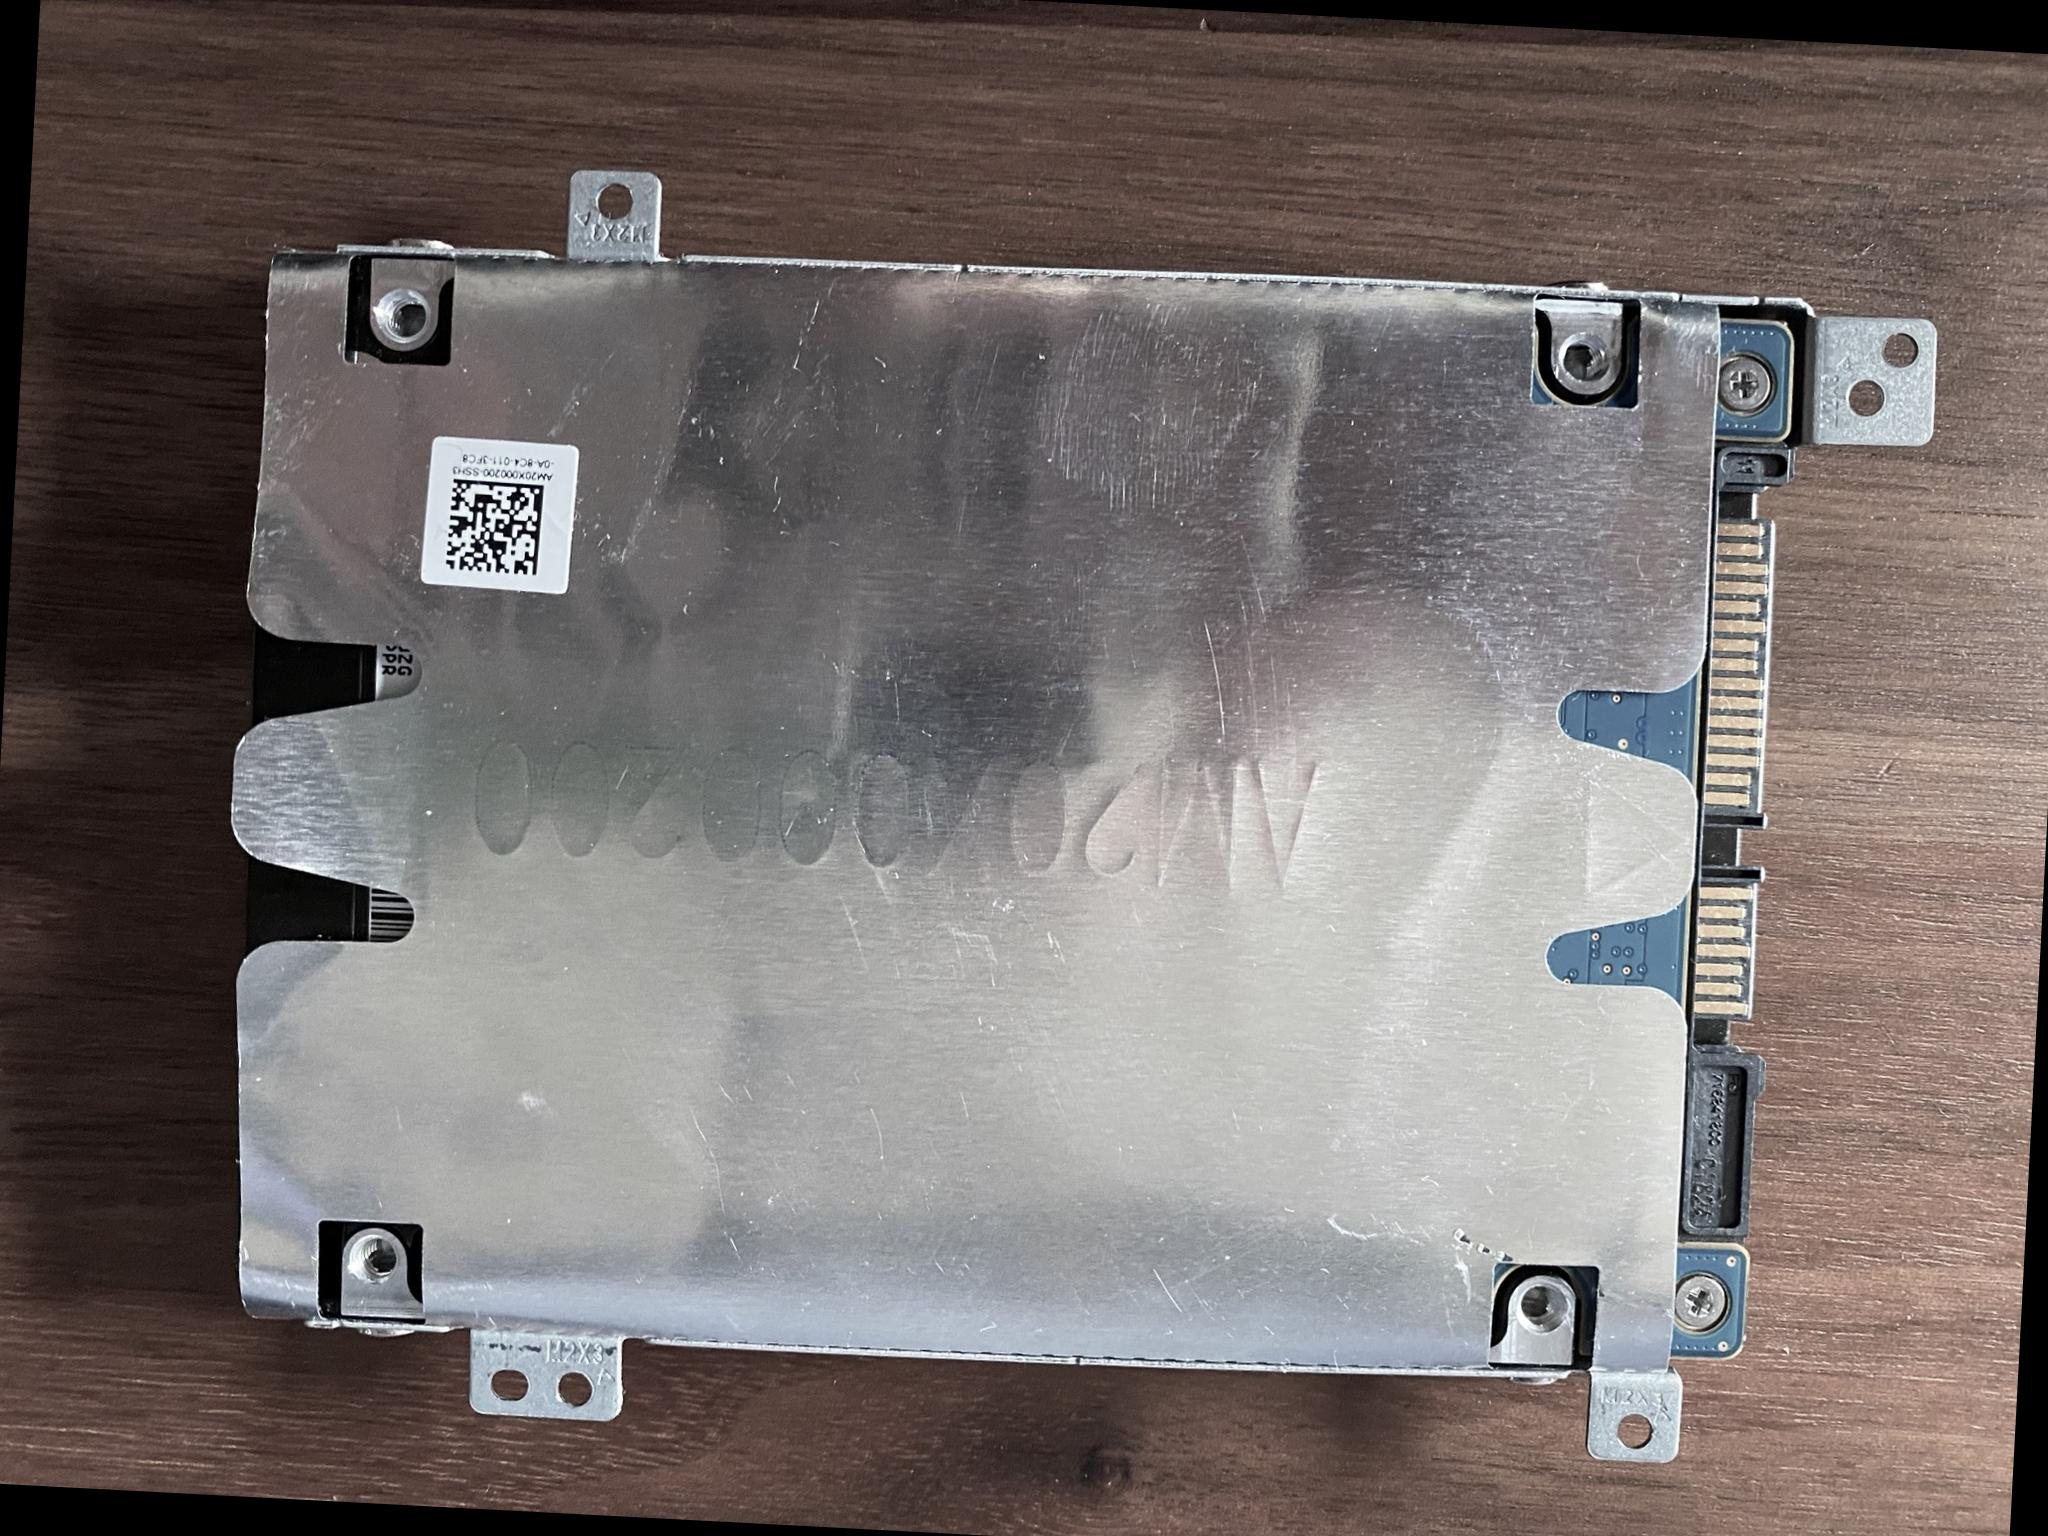PH: (1714, 345, 1771, 416), (1669, 1270, 1729, 1333)
